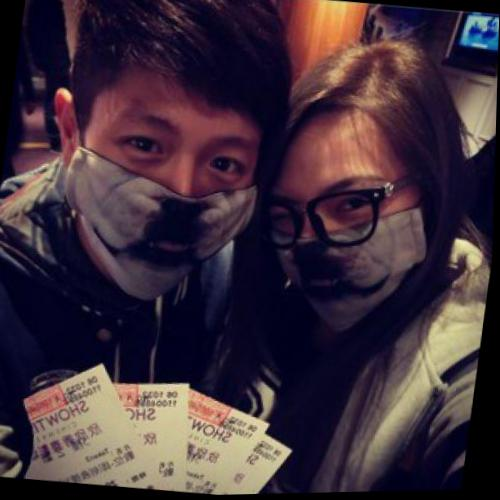OK: (244, 140, 429, 323)
WRONG: (76, 117, 266, 306)
